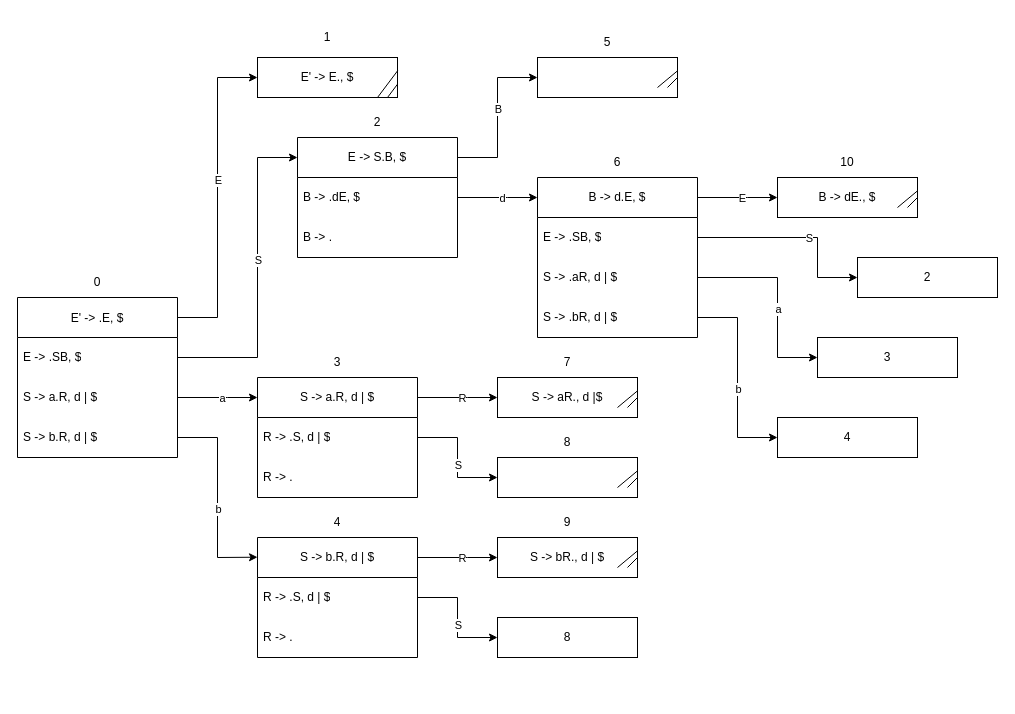
The diagram is 1015 pixels wide and 714 high, and some of its shapes have lost their labels. Here are the shapes that lost their labels. From the top down, the centre of each, then its label:
At (x=607, y=77): "E -> SB., $".
At (x=567, y=477): "R -> S., d | $".
